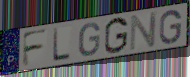F: (21, 27, 49, 69)
G: (103, 16, 129, 55), (158, 9, 183, 46), (78, 22, 102, 58)
L: (51, 27, 72, 63)
N: (128, 10, 159, 53)
